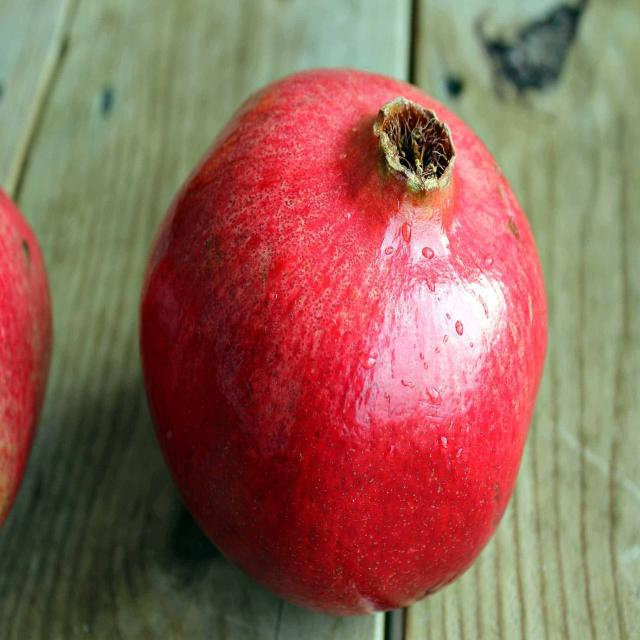apple: (136, 61, 553, 621), (1, 182, 56, 563)
